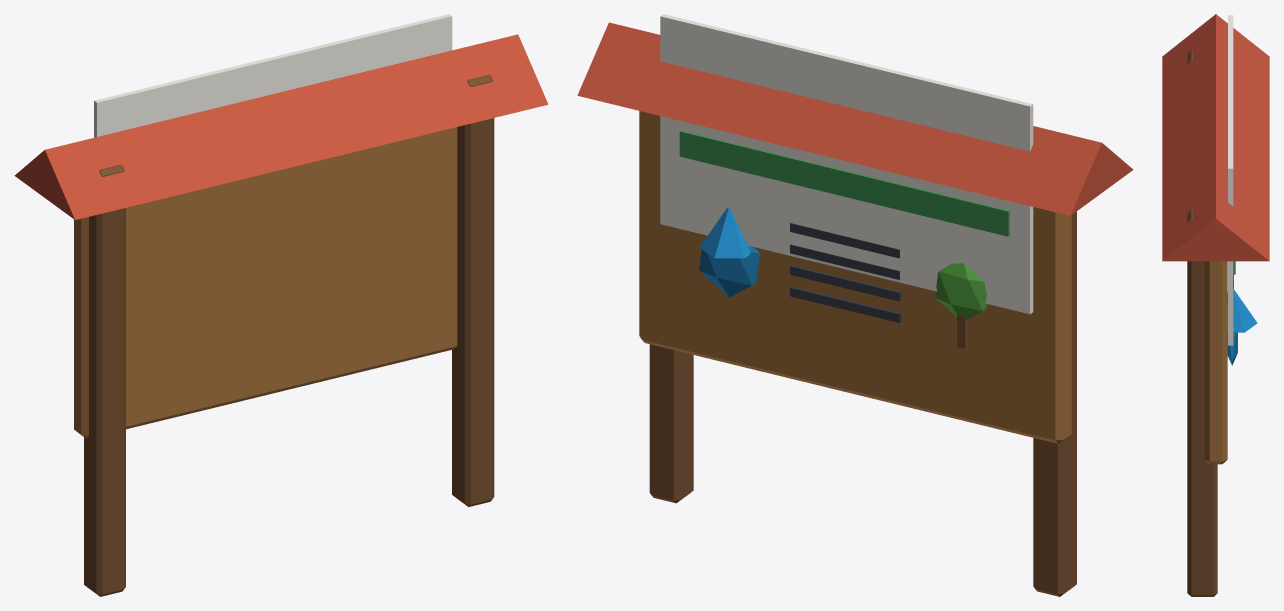
Rendered from placa_educativa.glb.
3 views of the same model, side by side, from view 1: azimuth 30°, elevation 25°; view 2: azimuth 150°, elevation 25°; view 3: azimuth 270°, elevation 25° (orthographic). The views are drawn at different scales.
Parts seen in each view (by area): view 1: corpo; view 2: corpo; view 3: corpo.
Part boxes in pixels (x1,y1,x2,y2): corpo: (14,14,548,596); corpo: (577,14,1133,596); corpo: (1162,14,1269,596).
Size of the model in its own units: 0.72 by 0.69 by 0.16.
